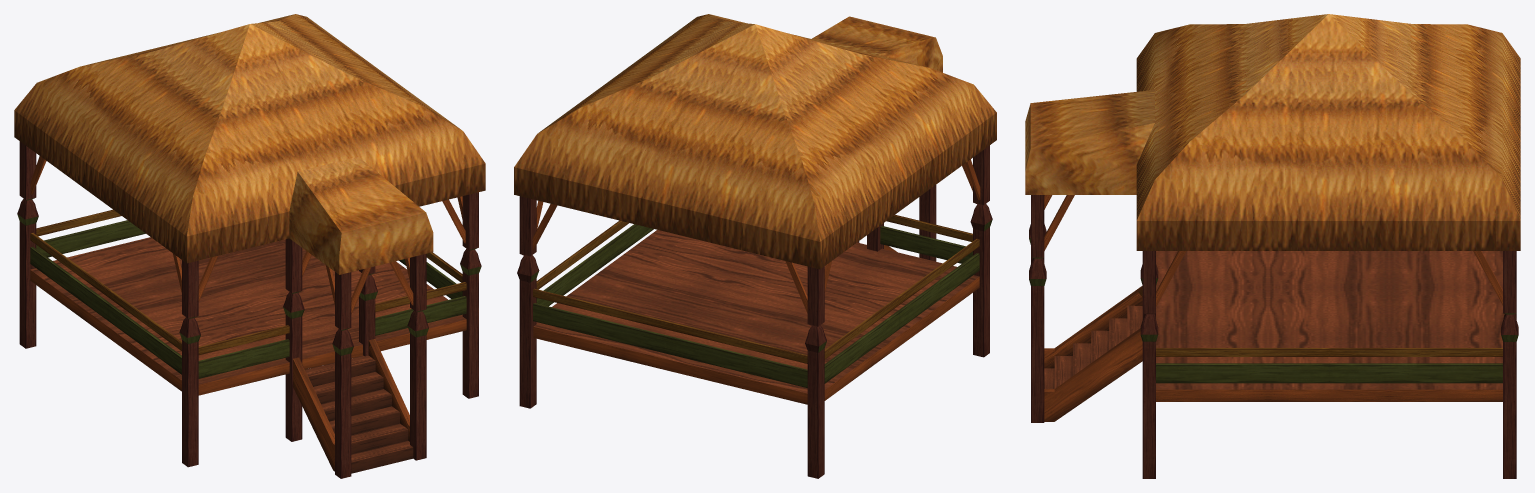
File: Hut_05.FBX
3 renders of one model, left to right at view 1: azimuth 30°, elevation 25°; view 2: azimuth 150°, elevation 25°; view 3: azimuth 270°, elevation 25°, orthographic. The views are drawn at different scales.
Visible parts, largest first — view 1: Hut_05; view 2: Hut_05; view 3: Hut_05.
Part boxes in pixels (<box>): Hut_05: <box>14,14,485,478</box>; Hut_05: <box>514,14,996,478</box>; Hut_05: <box>1025,14,1520,478</box>.
Size of the model in its own units: 4.73 by 6.1 by 5.24.
